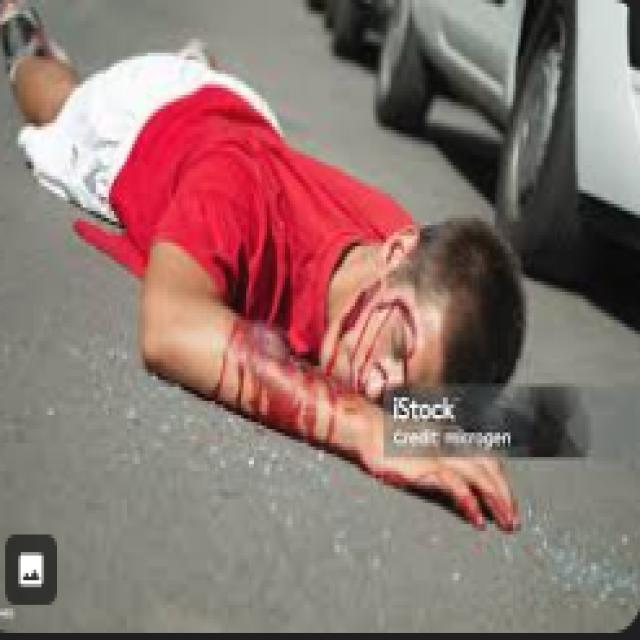injury: (314, 221, 525, 412), (214, 305, 344, 440), (326, 270, 395, 348)
